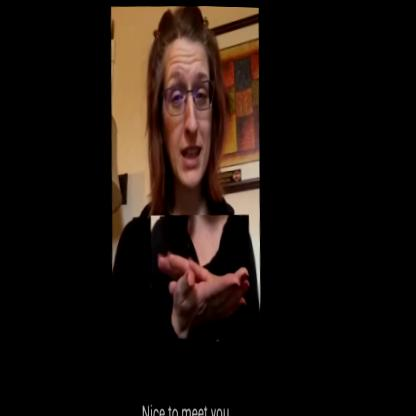NiceToMeetYou: (149, 211, 255, 341)
